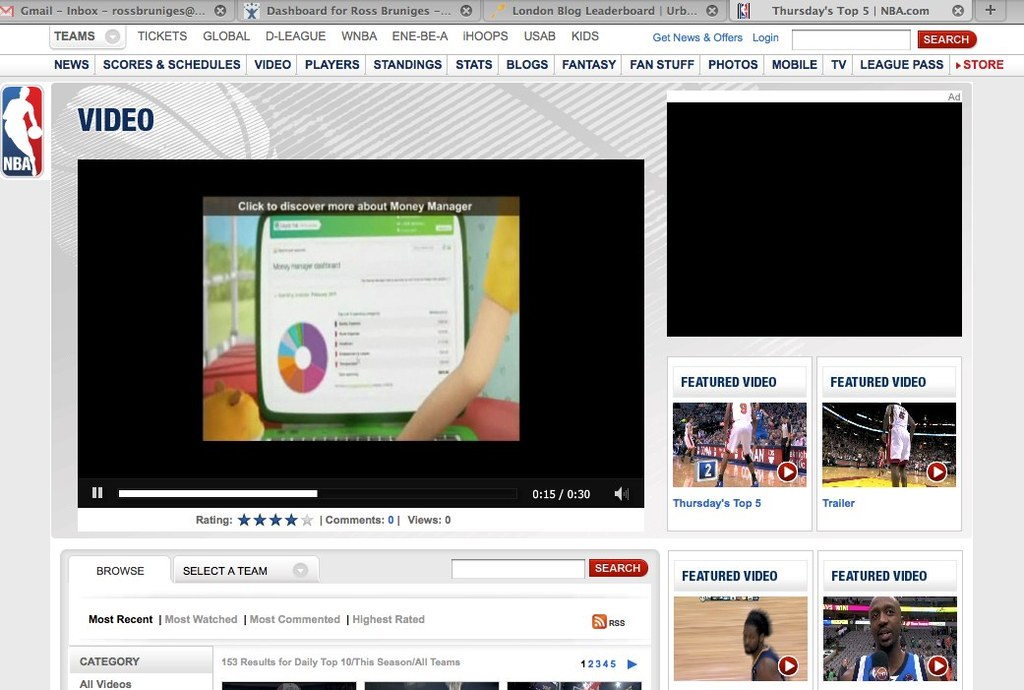Person: (673, 400, 807, 489), (828, 596, 956, 683), (825, 404, 956, 486), (743, 612, 787, 684)
